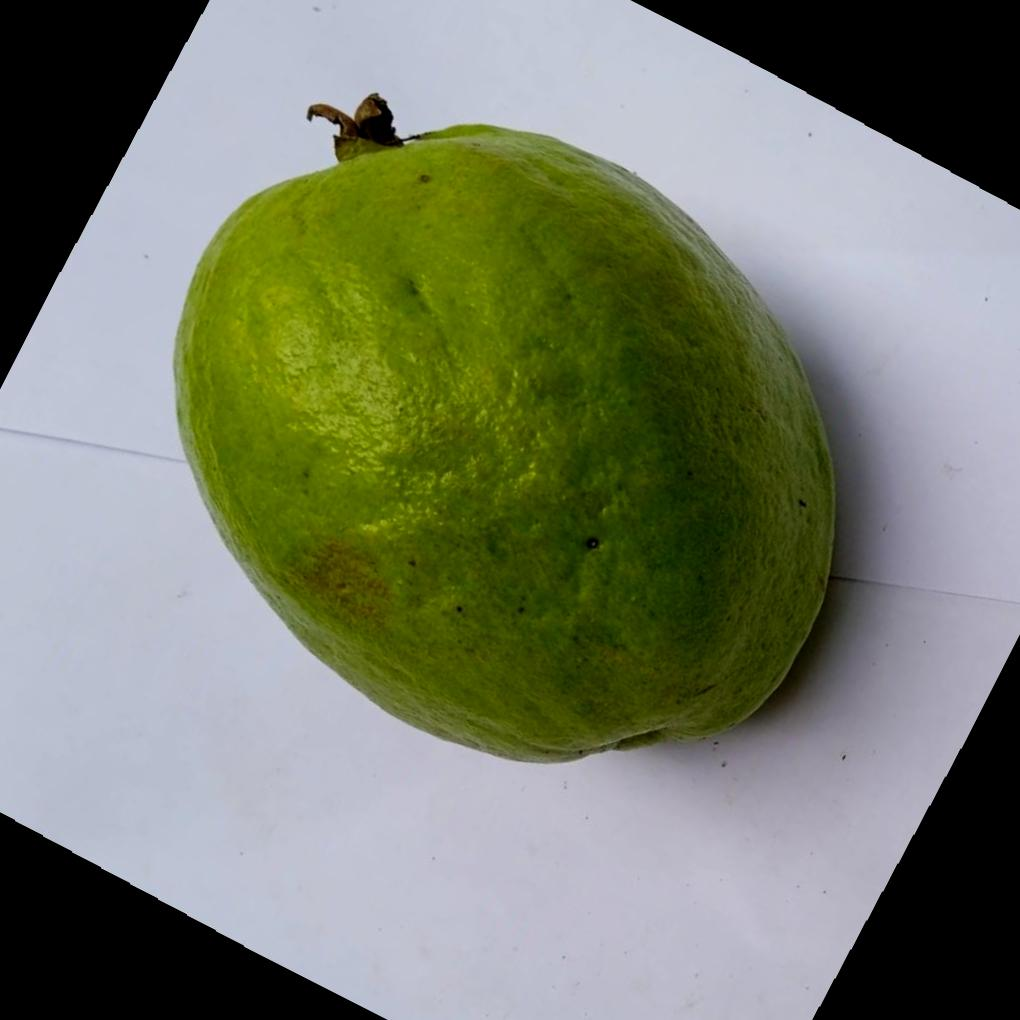FreshGuava: (172, 97, 841, 766), (172, 97, 839, 766)
